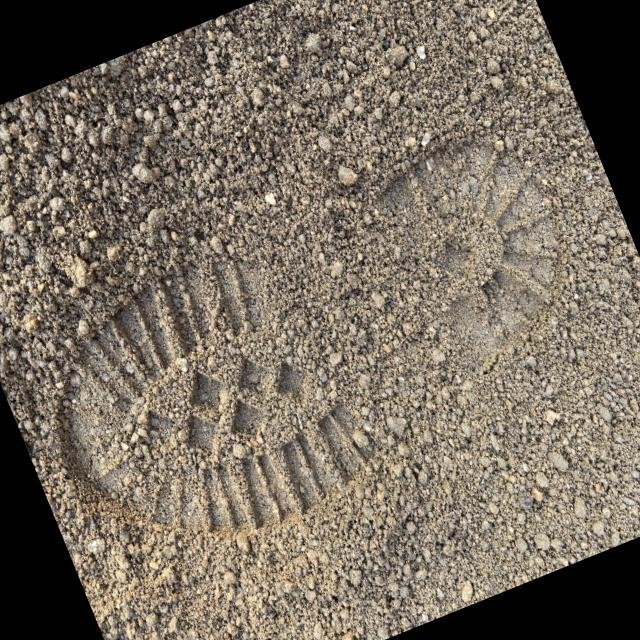human_foot_print: (26, 69, 549, 614)
